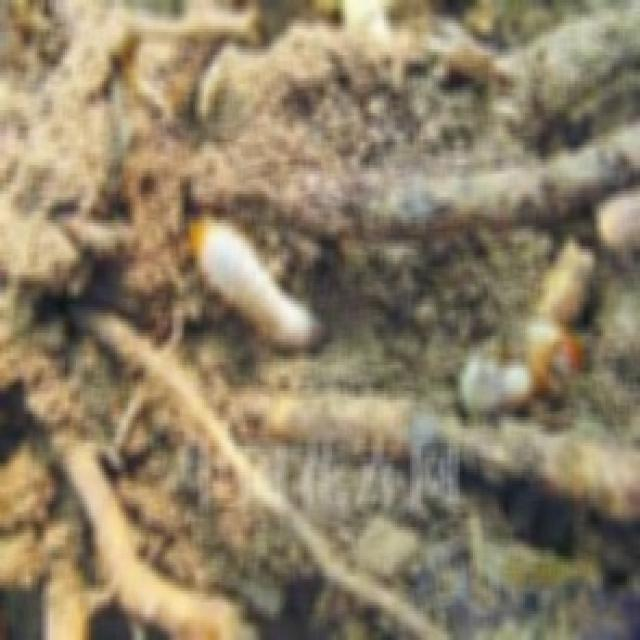grub: (184, 214, 330, 350), (460, 312, 579, 408)
